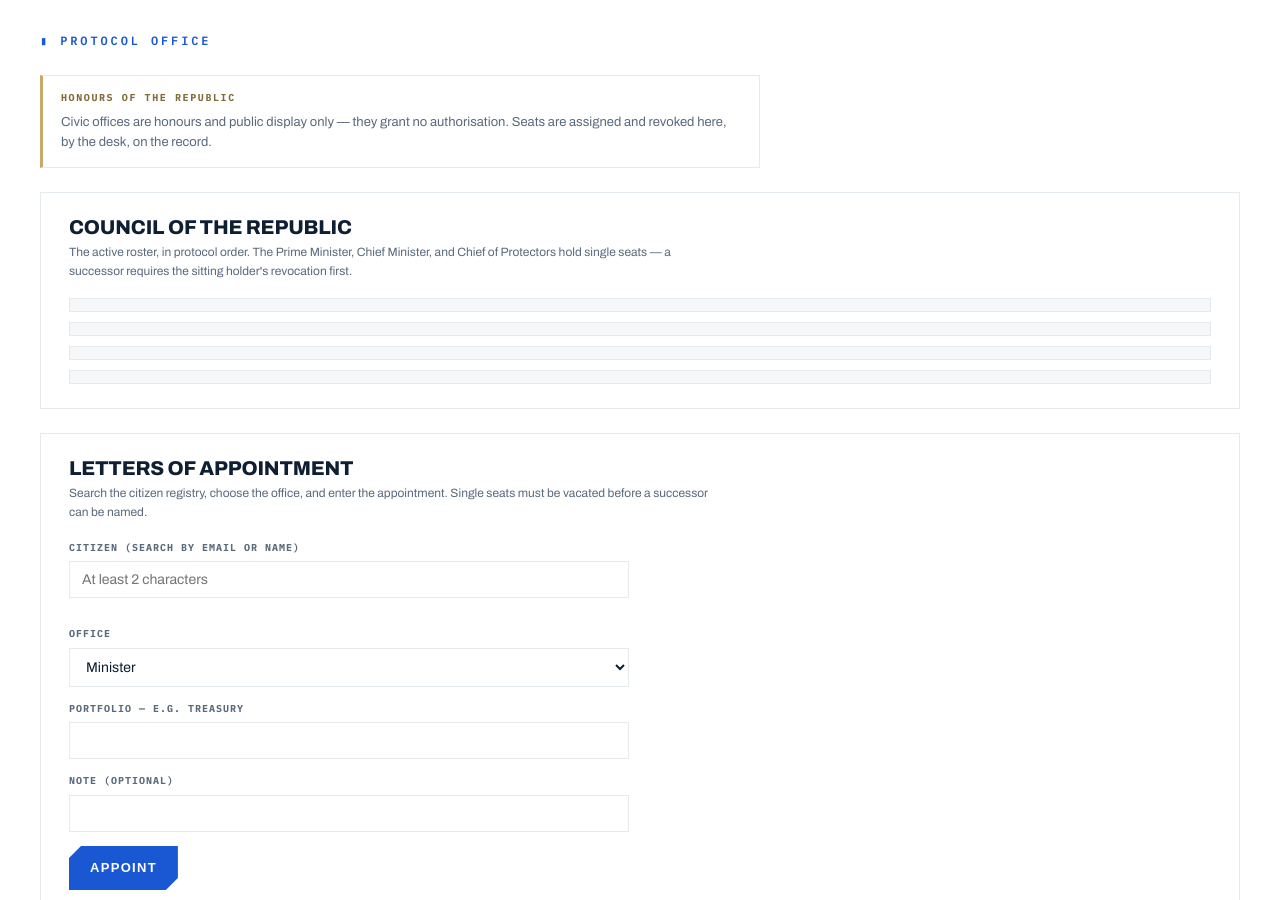
Test case: OfficesDeskApp › a 409 seat conflict surfaces inline in the persistent error container
Type "candidate" into the field labelled "Citizen (search by email or name)" at (349, 580), box [69,561,629,598]
(page scrolled)
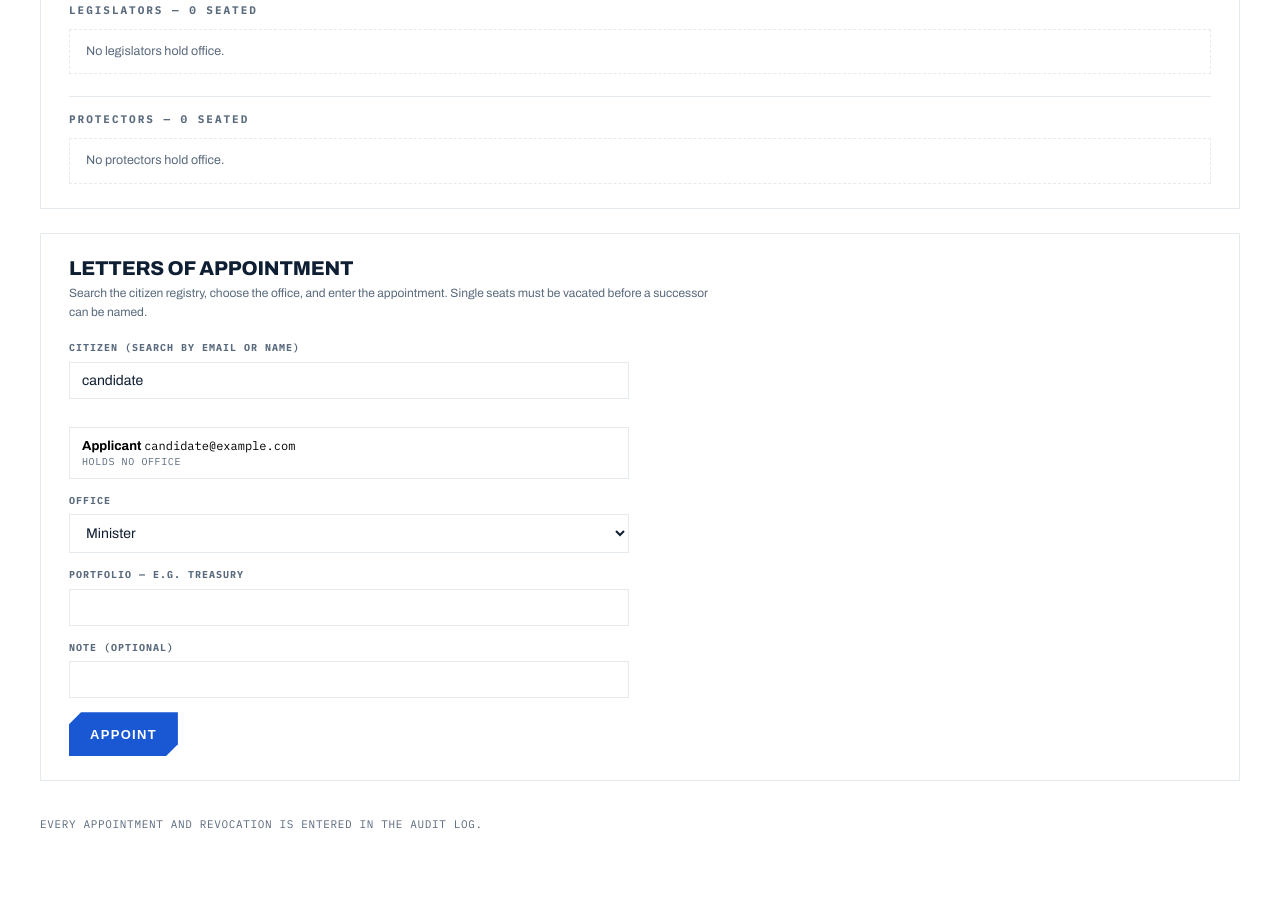
Click the button with test id "pick-u9" at (112, 446), box [70,428,628,478]
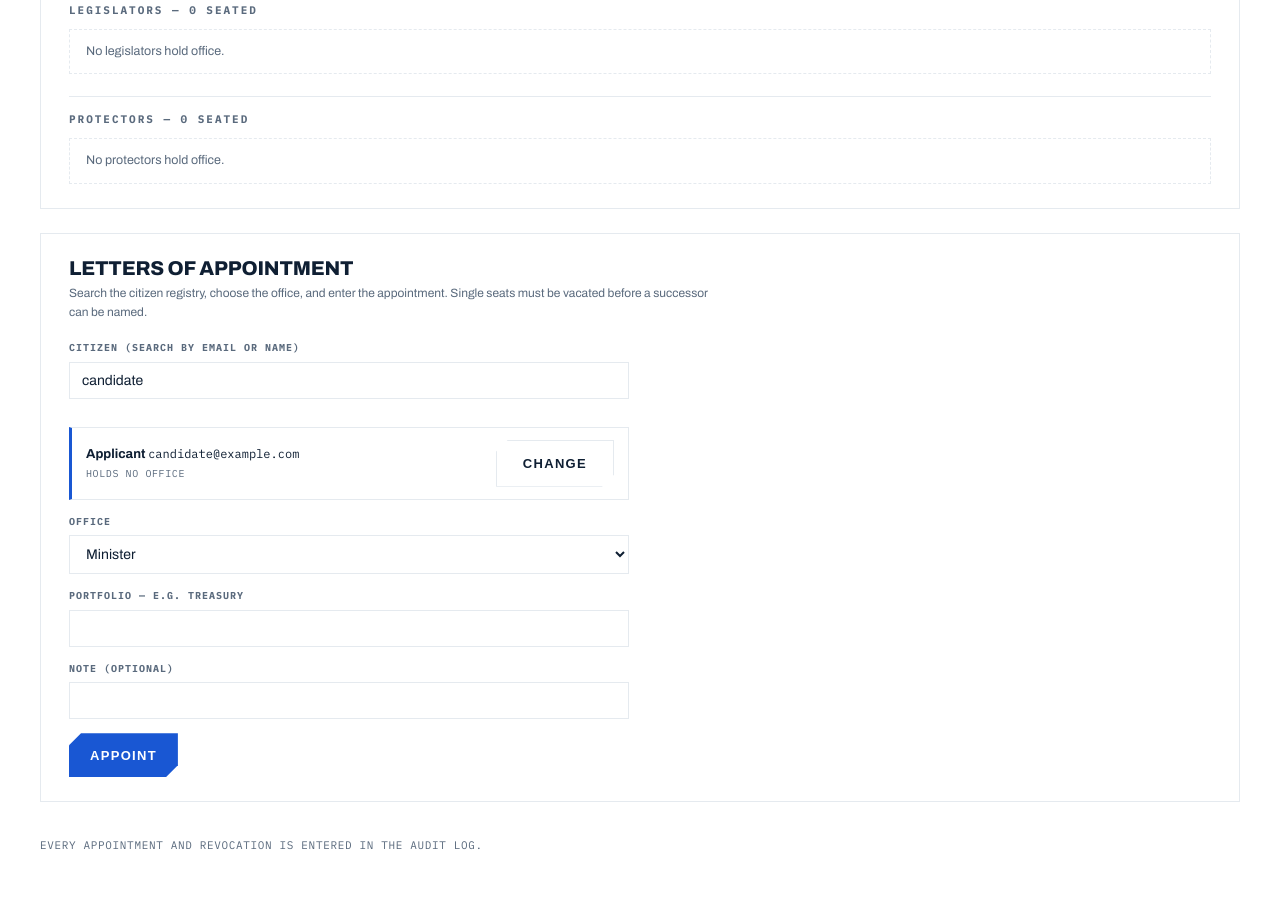
Click the button with test id "appoint-submit" at (123, 755), box [69,733,178,777]
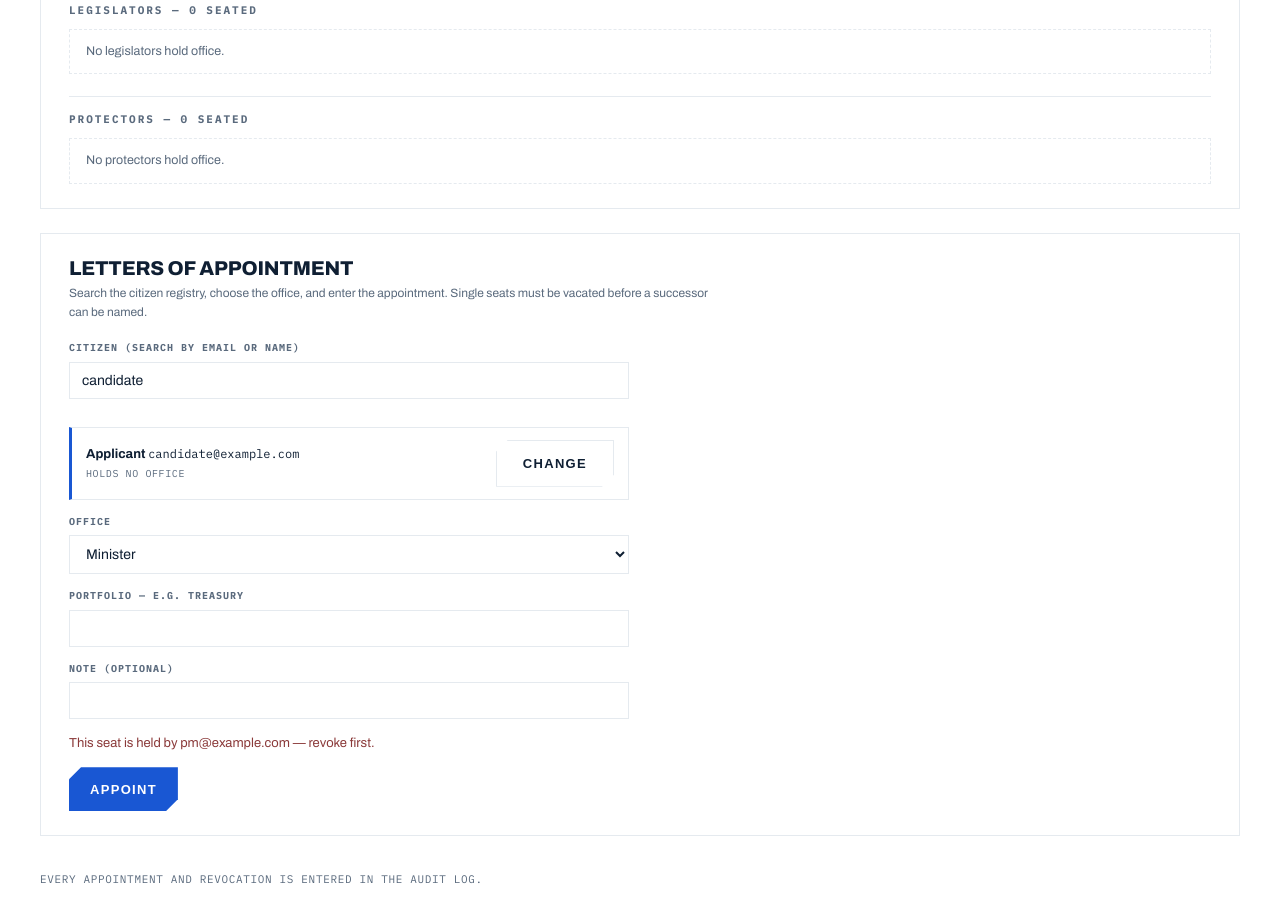
Expected: the message with test id "appoint-error" reads "This seat is held by pm@example.com — revoke first.", [69,736,375,750]
